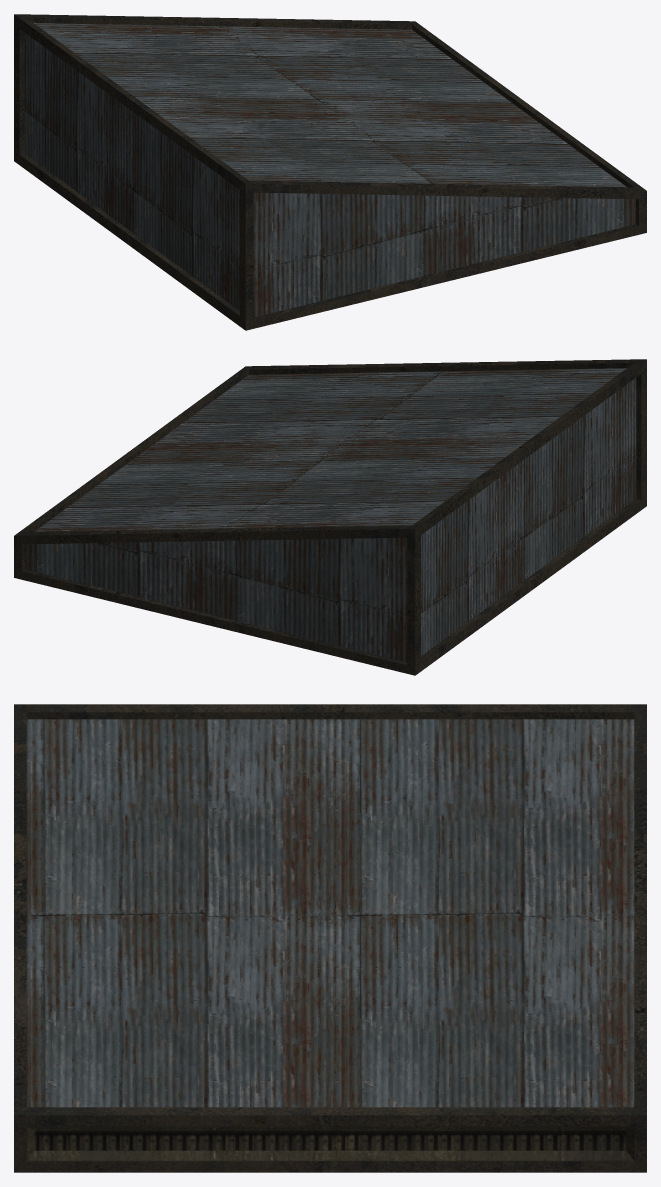
File: roof_mh_1.fbx
3 renders of one model, top to bottom at view 1: azimuth 30°, elevation 25°; view 2: azimuth 150°, elevation 25°; view 3: azimuth 270°, elevation 25°, orthographic. The views are drawn at different scales.
Parts seen in each view (by area): view 1: roof_mh_1; view 2: roof_mh_1; view 3: roof_mh_1.
Part boxes in pixels (<box>): roof_mh_1: <box>14,14,646,330</box>; roof_mh_1: <box>14,359,646,675</box>; roof_mh_1: <box>14,704,646,1172</box>.
Size of the model in its own units: 4 by 4 by 1.4.
